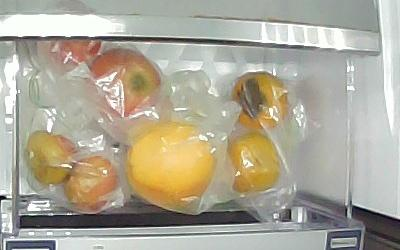apple_vinyl: (87, 48, 163, 116), (40, 39, 103, 77)
grapefruit_vinyl: (128, 121, 217, 208)
persimmon_vinyl: (231, 71, 287, 130), (228, 132, 281, 193)
prune_vinyl: (65, 155, 119, 213), (27, 131, 78, 185)
